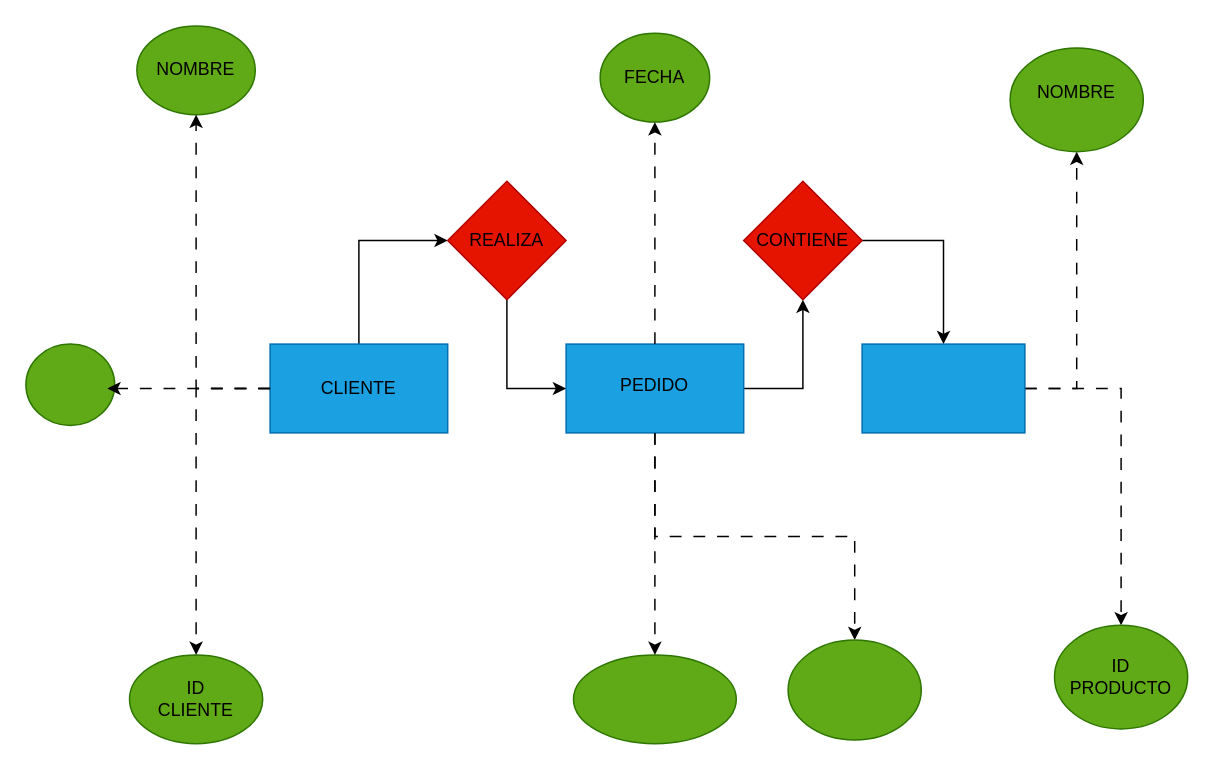
The diagram is 1214 pixels wide and 770 high, and some of its shapes have lost their labels. The shapes that lost their labels are listed below. From the top down, each one's centre as x and y in pixels, then its label:
At (69,384): "EMAIL".
At (943,388): "PRODUCTO".
At (654,698): "ID PEDIDOS".
At (854,689): "CANTIDAD".
